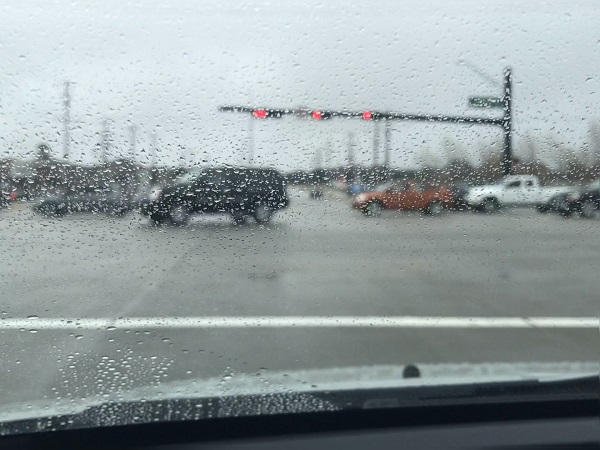car: (143, 166, 288, 227), (353, 180, 451, 218), (32, 180, 131, 216)
traffic light: (251, 105, 268, 119), (308, 108, 321, 119), (359, 109, 372, 120)
truck: (466, 172, 573, 214)
